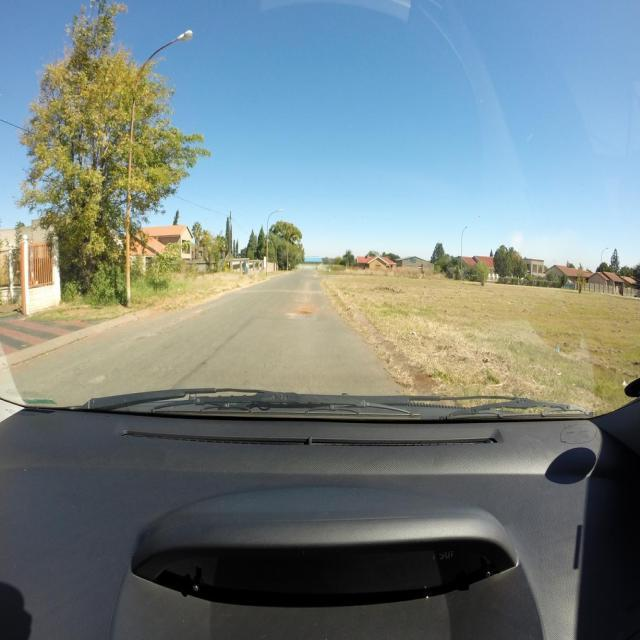pothole: (290, 308, 313, 316)
